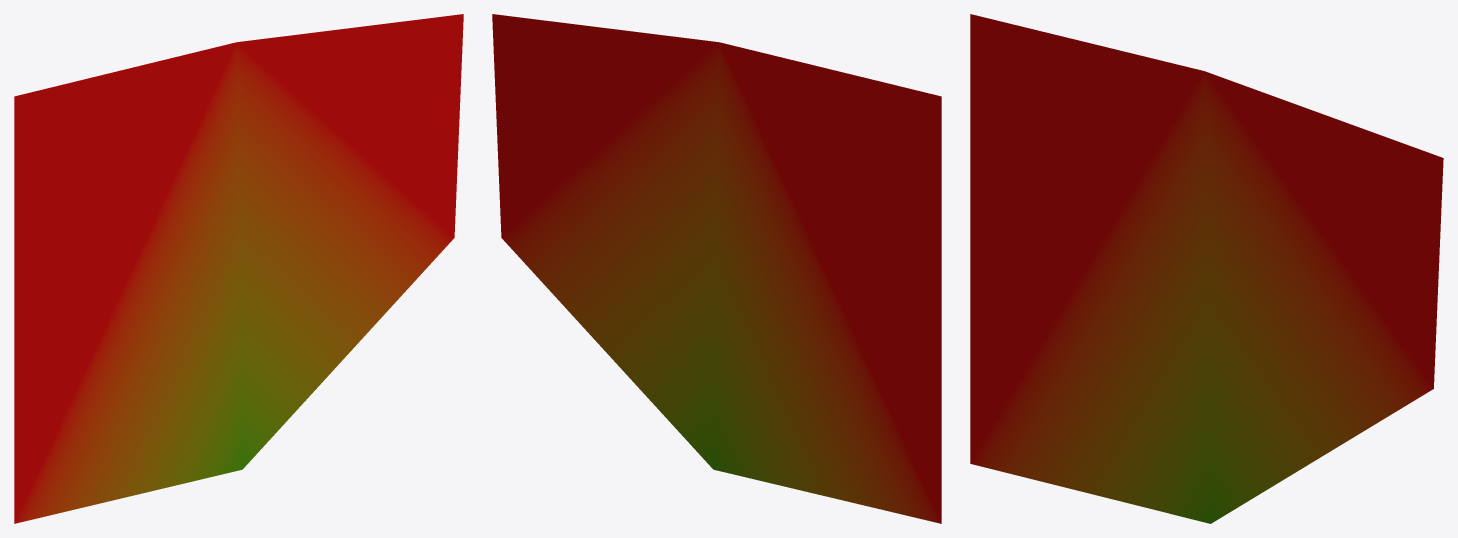
The model's file is Pink Cordyline_LOD3_Var1_sfhhN.fbx.
The picture shows the model from 3 angles, left to right: view 1: azimuth 30°, elevation 25°; view 2: azimuth 150°, elevation 25°; view 3: azimuth 330°, elevation 25°; orthographic projection. The views are drawn at different scales.
Parts seen in each view (by area): view 1: _e042_Var1_LOD3; view 2: _e042_Var1_LOD3; view 3: _e042_Var1_LOD3.
Boxes of the visible parts, bbox=[...] form: _e042_Var1_LOD3: bbox=[14, 14, 463, 523]; _e042_Var1_LOD3: bbox=[492, 14, 941, 523]; _e042_Var1_LOD3: bbox=[970, 14, 1443, 523].
Size of the model in its own units: 79.6 by 72.55 by 7.27e-06.
